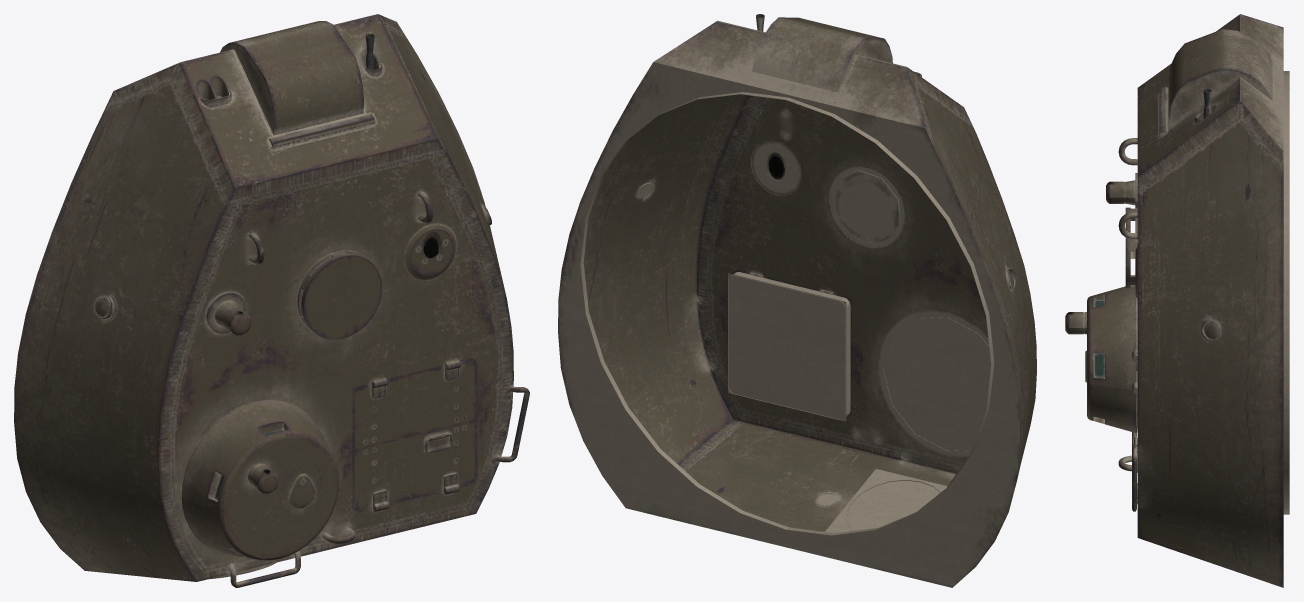
The model's file is Turret_01.glb.
The picture shows the model from 3 angles, left to right: view 1: azimuth 30°, elevation 25°; view 2: azimuth 150°, elevation 25°; view 3: azimuth 270°, elevation 25°; orthographic projection. The views are drawn at different scales.
Visible parts, largest first — view 1: set_0_group_0; view 2: set_0_group_0; view 3: set_0_group_0.
Boxes of the visible parts, box(x1,y1,x2,y2) form: set_0_group_0: box(14, 14, 529, 587); set_0_group_0: box(558, 14, 1036, 587); set_0_group_0: box(1065, 14, 1289, 587).
Bounding box in the file's own units: 2.47 × 2.55 × 1.11.
Materials: 1 (1 with a texture image).
